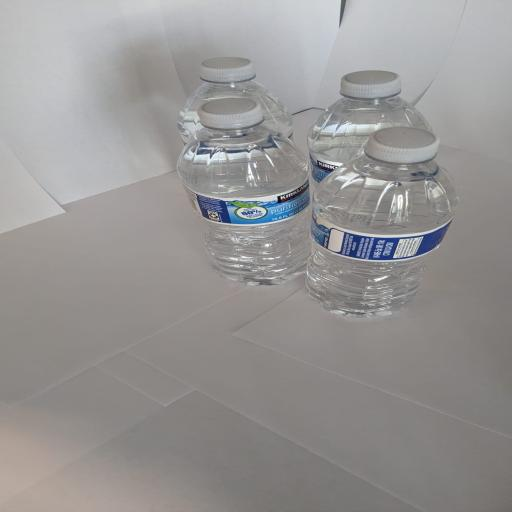waterbottle: (307, 128, 458, 315), (178, 99, 310, 284), (308, 71, 430, 182), (178, 58, 292, 143)
